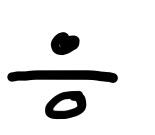div: (8, 32, 118, 119)
